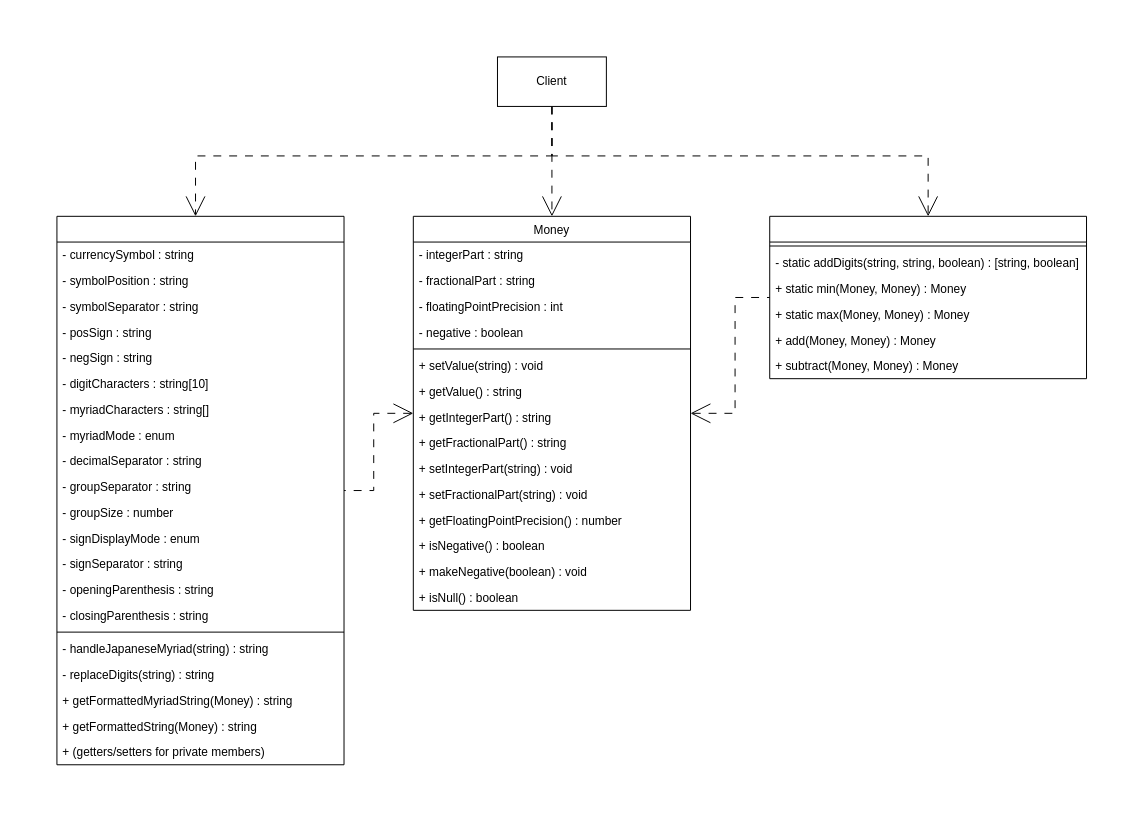
Image size: 1142x816. Some labels were removed from this diagram. Each missing label, with the box of its shape:
MoneyCalculator: (769, 215, 1087, 379)
MoneyFormatter: (56, 215, 344, 765)
